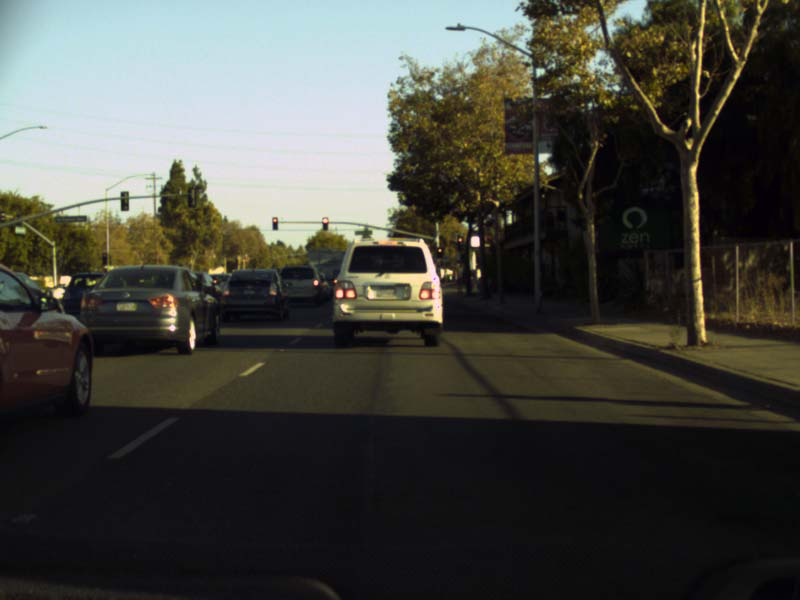Red: (456, 235, 463, 250), (321, 216, 328, 230), (435, 246, 442, 257), (272, 217, 277, 229)
